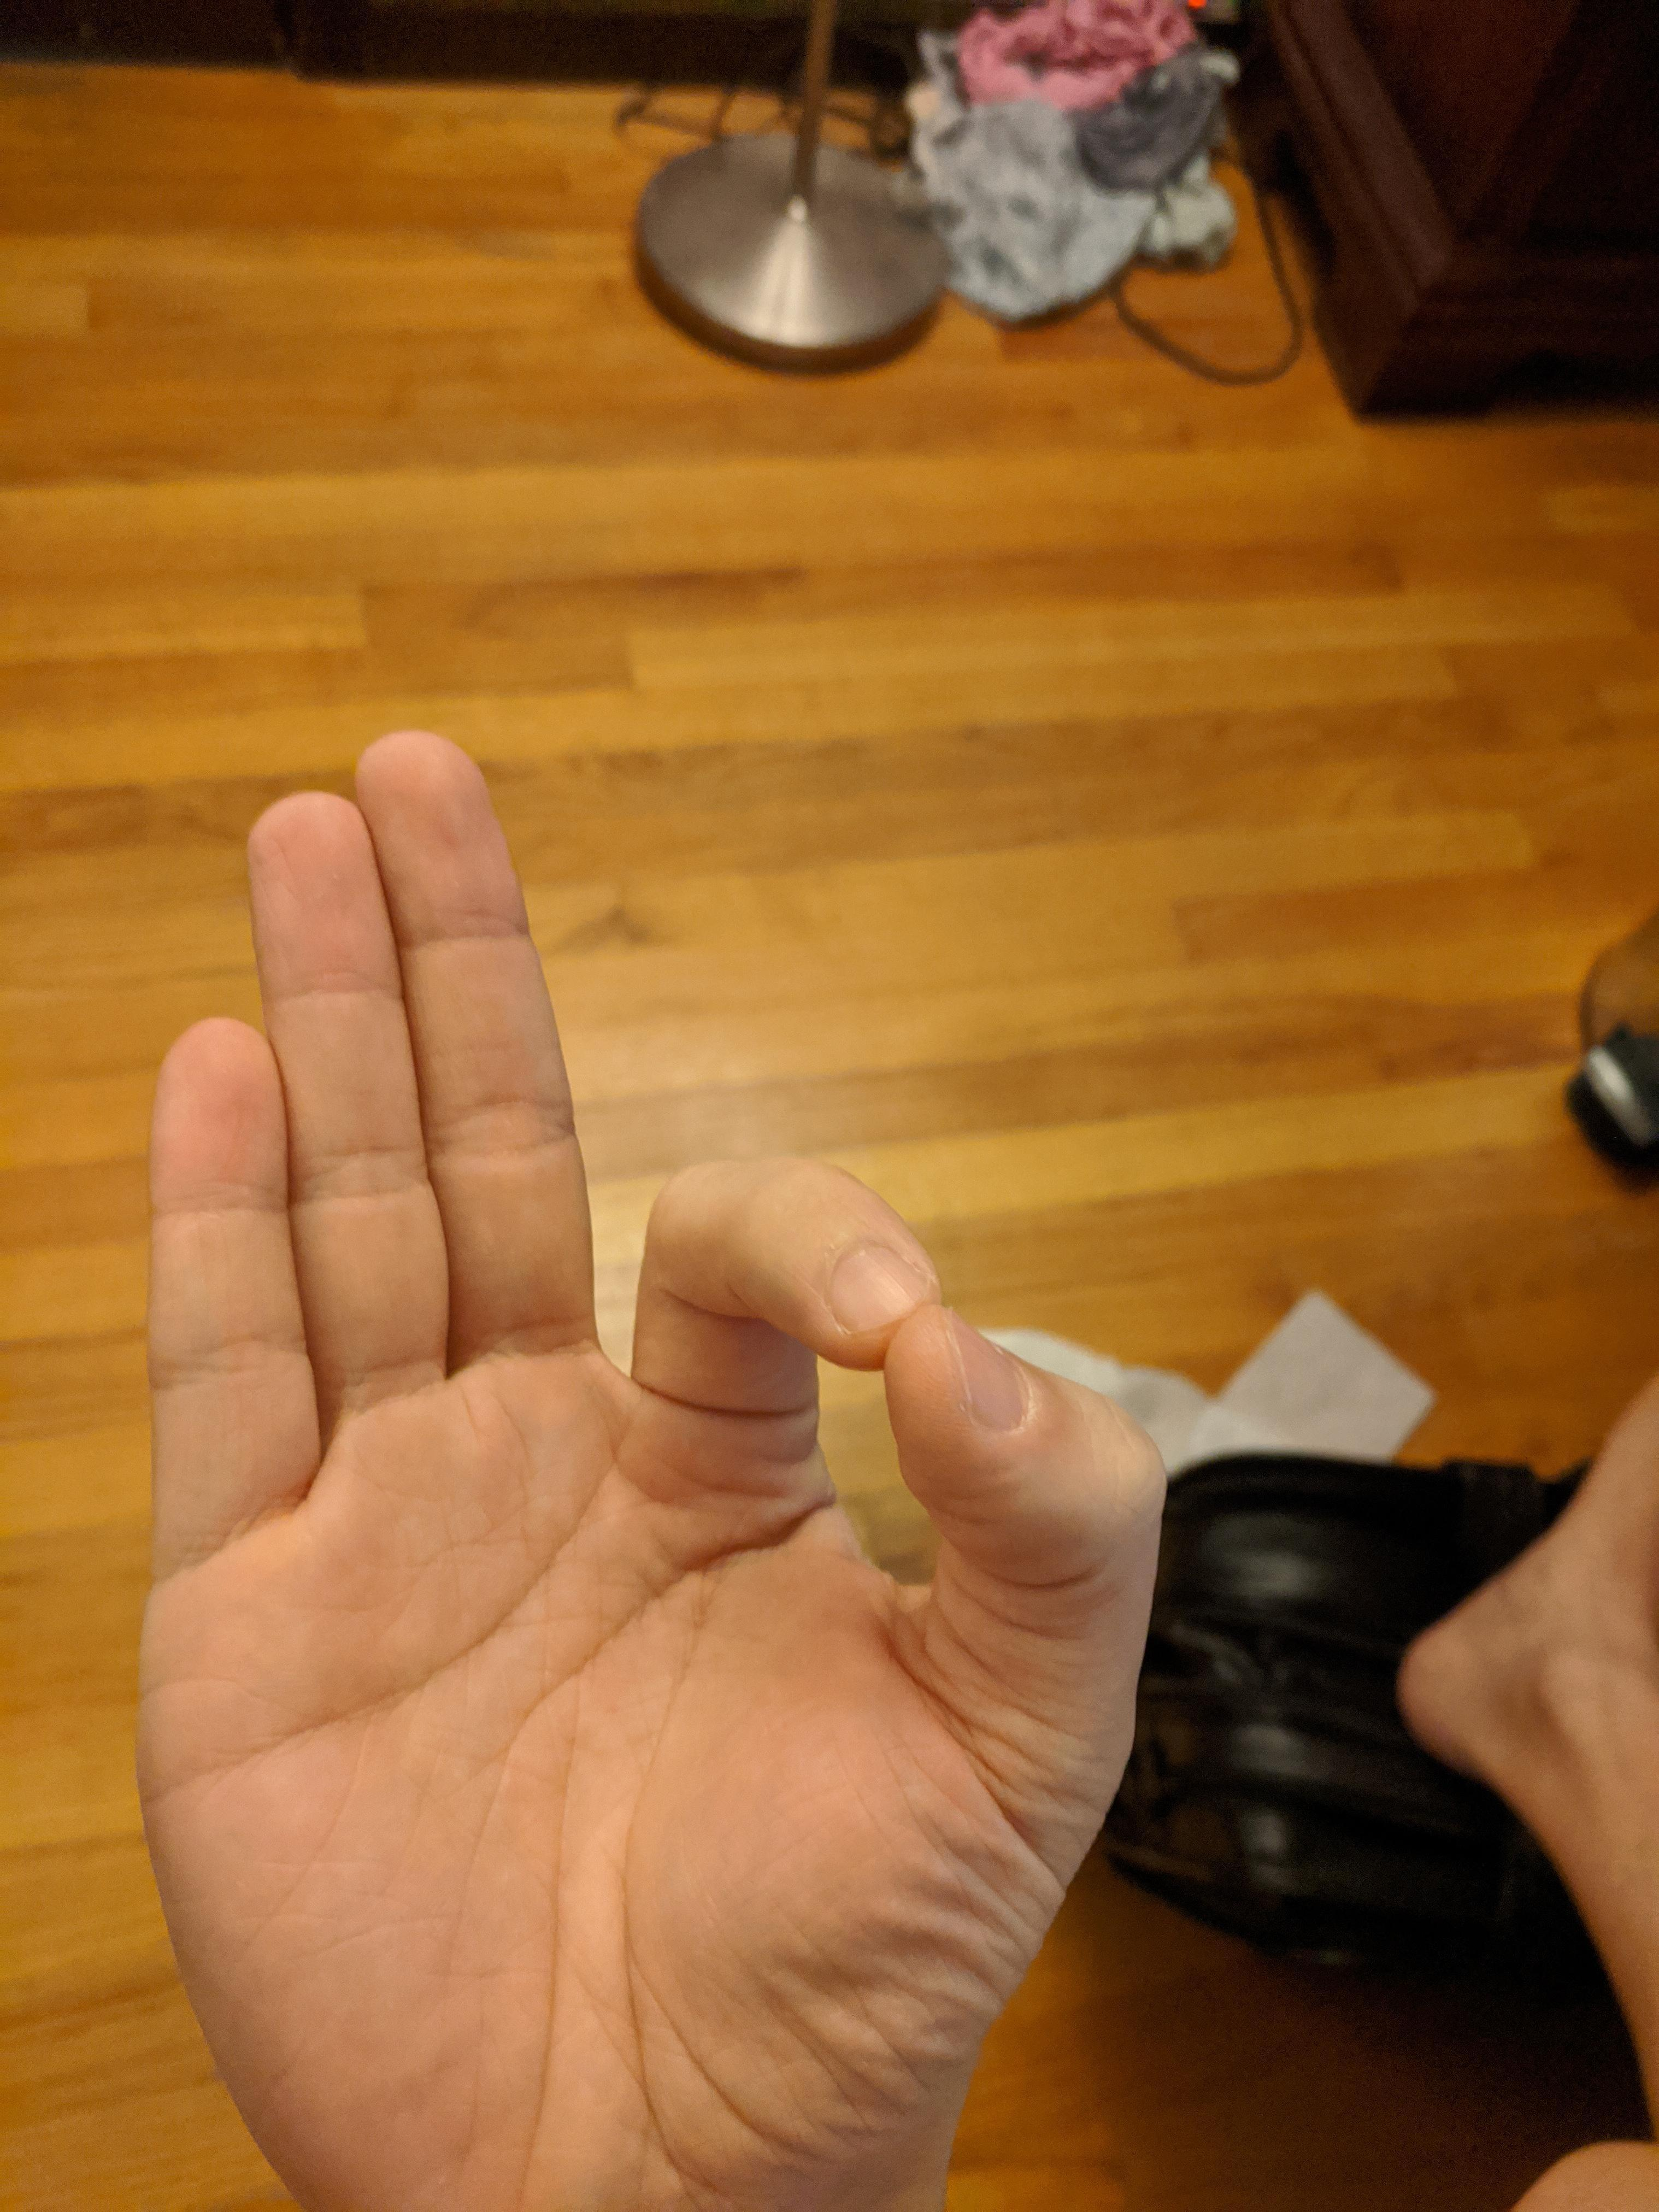F: (117, 711, 1185, 2212)
